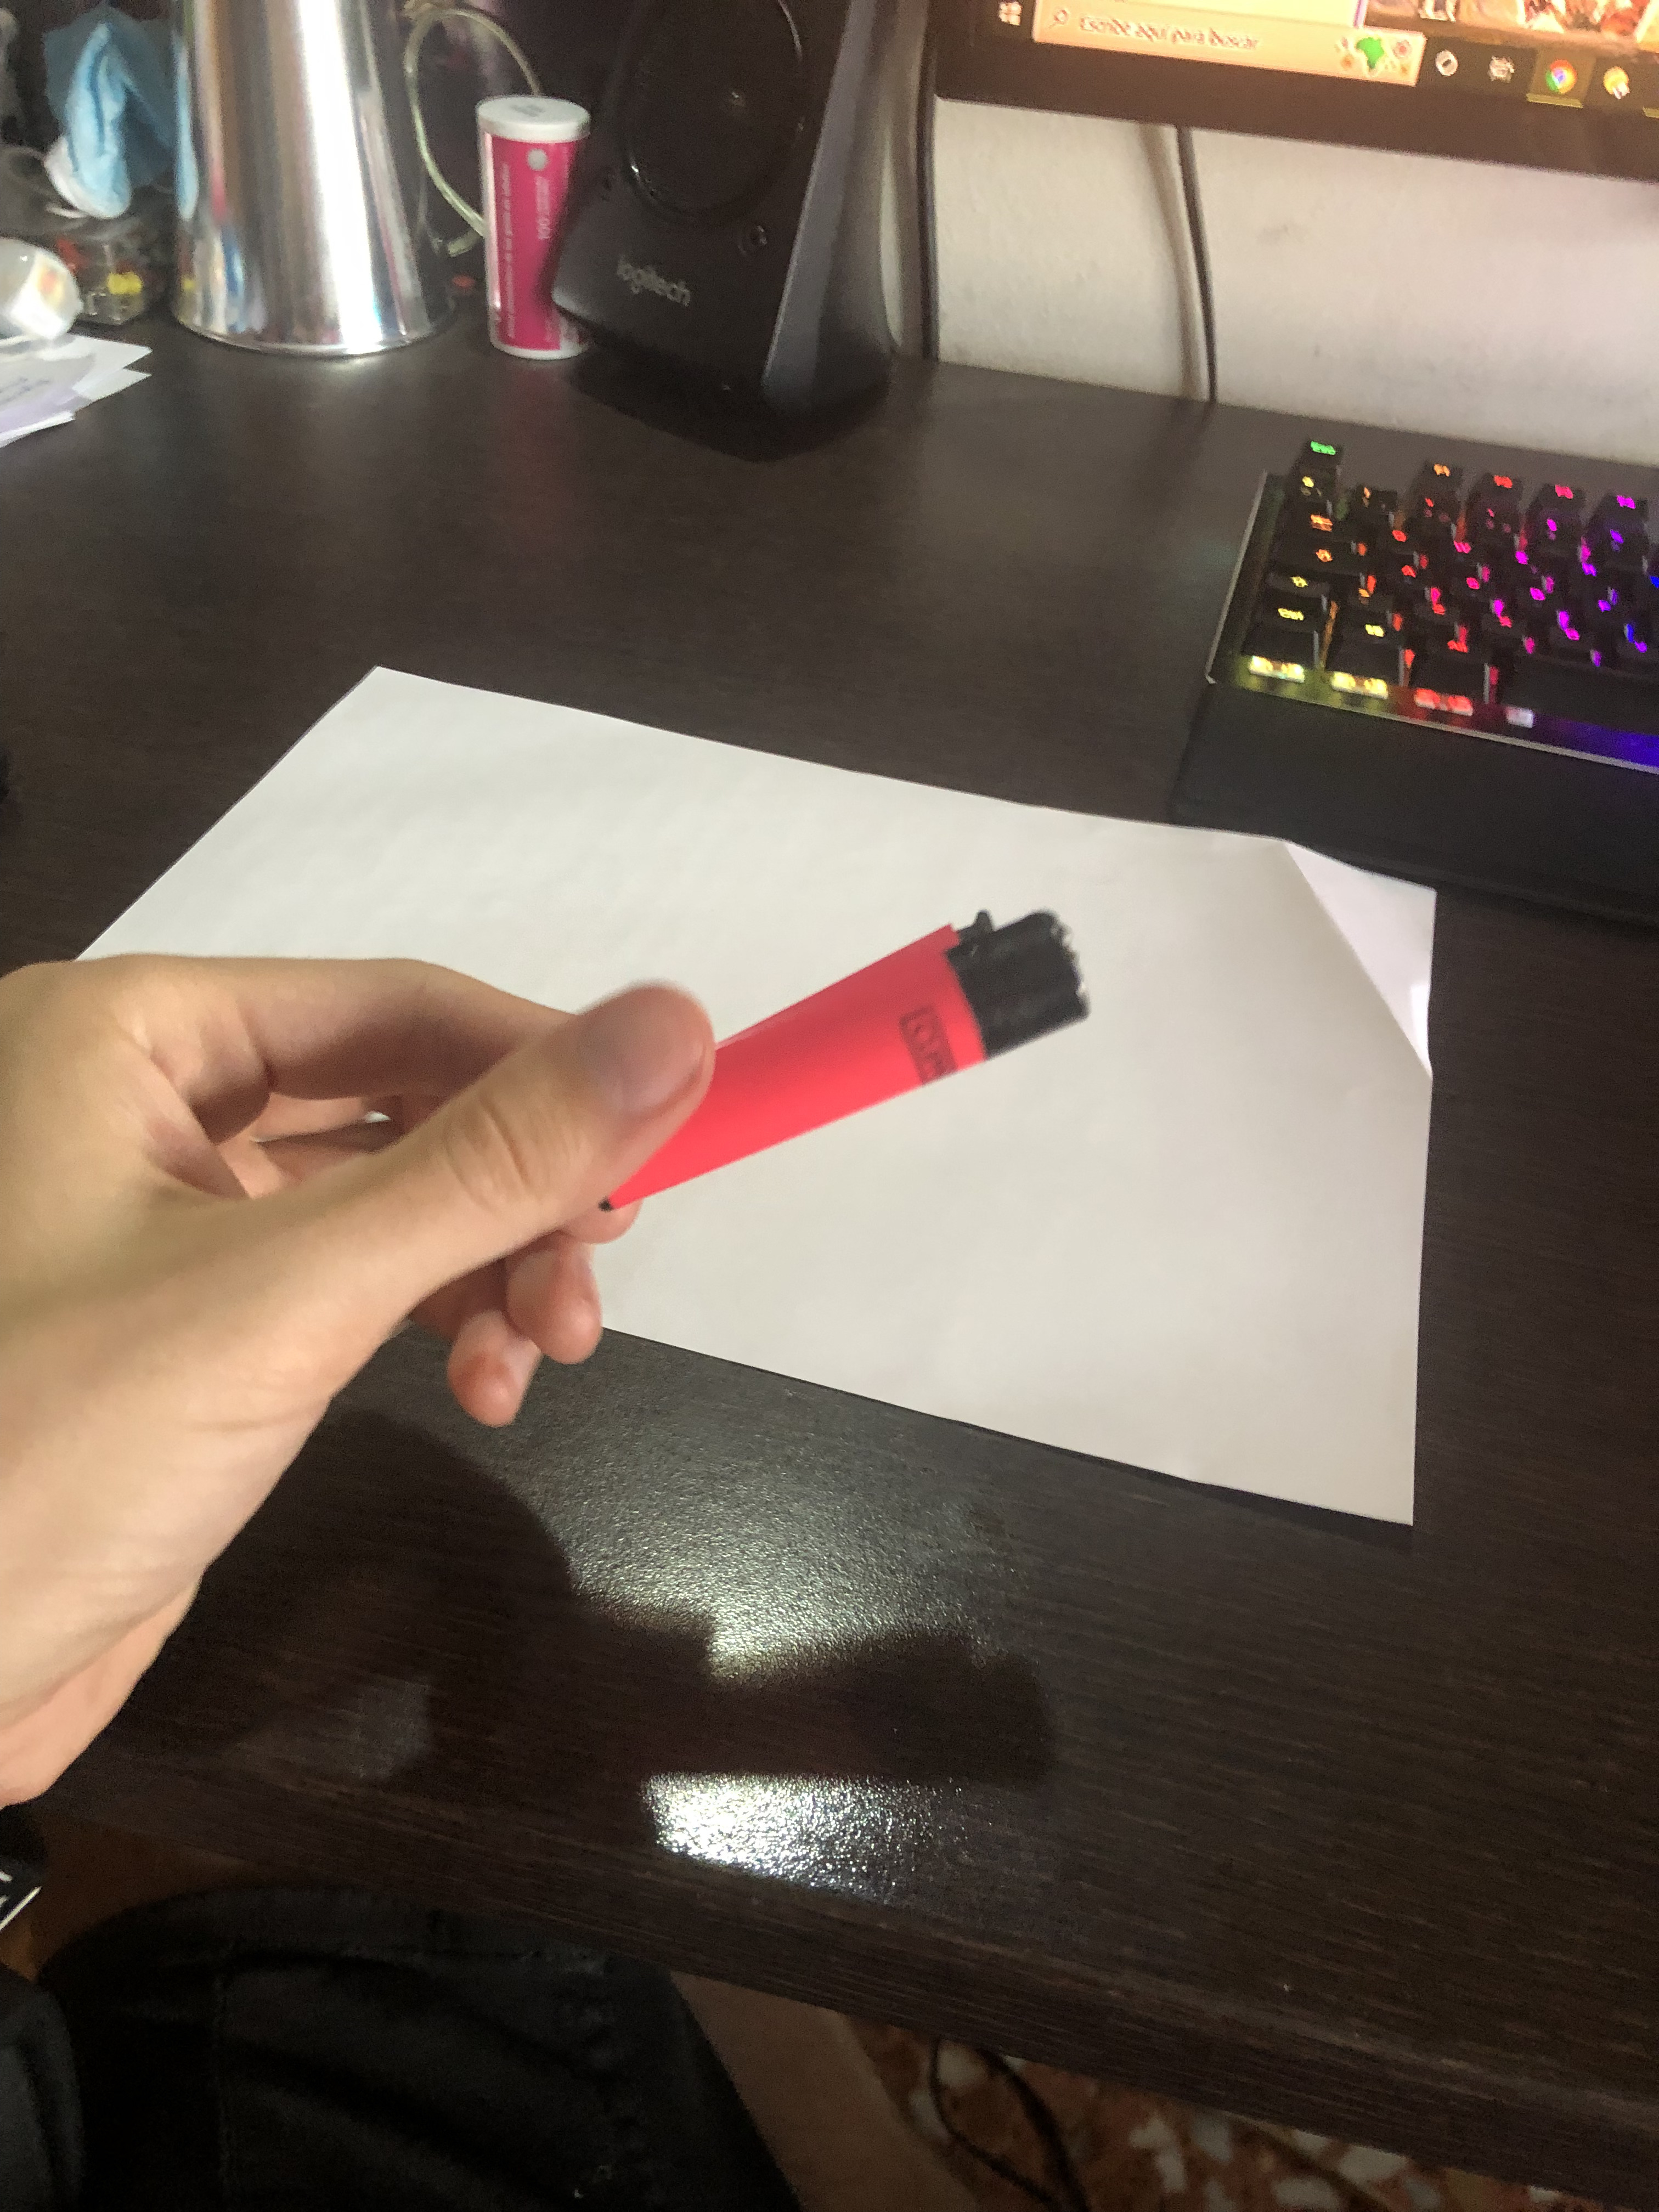Mechero: (592, 906, 1084, 1224)
